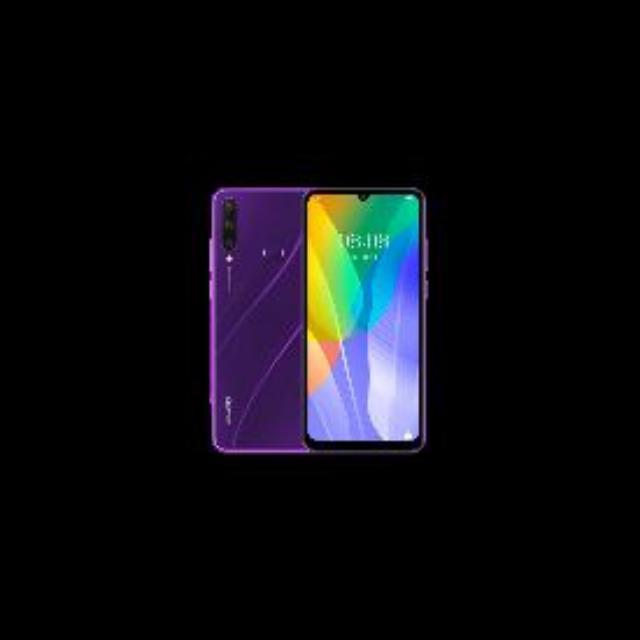PhoneUse: (302, 186, 428, 454), (210, 186, 306, 454)
